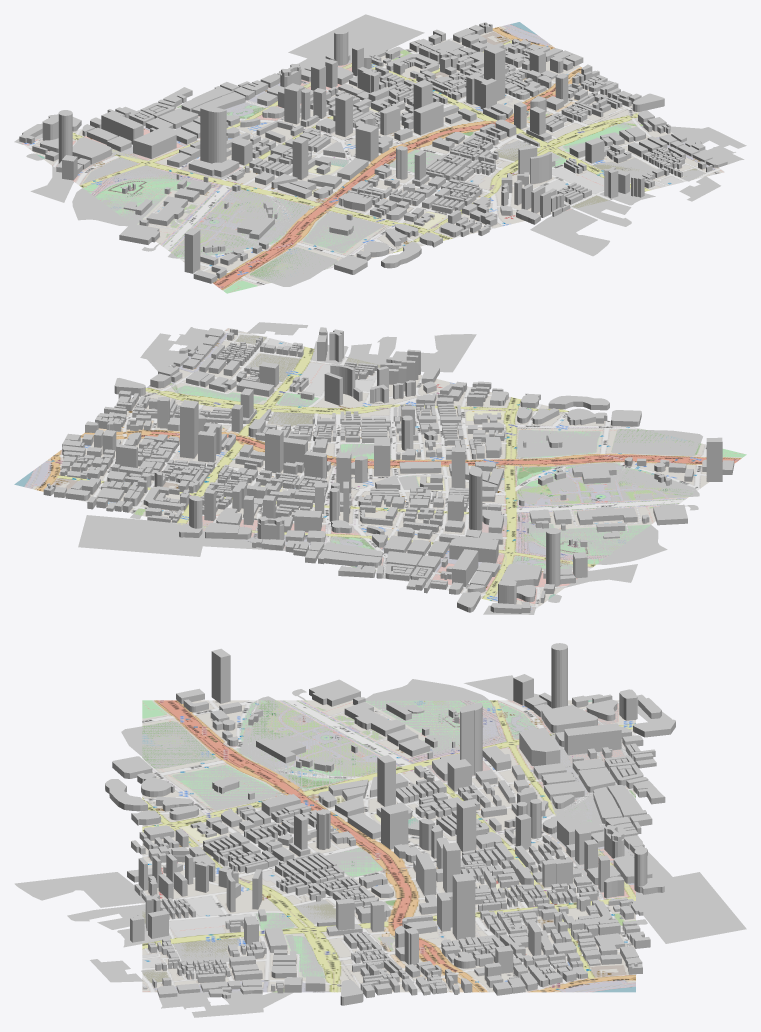
The picture shows the model from 3 angles, top to bottom: view 1: azimuth 30°, elevation 25°; view 2: azimuth 150°, elevation 25°; view 3: azimuth 270°, elevation 25°; orthographic projection. The views are drawn at different scales.
Parts seen in each view (by area): view 1: Areas:building, EXPORT_OSM_MAPNIK_WM, Areas:leisure, Areas:landuse; view 2: Areas:building, EXPORT_OSM_MAPNIK_WM, Areas:landuse, Areas:leisure; view 3: Areas:building, EXPORT_OSM_MAPNIK_WM, Areas:leisure, Areas:landuse.
Boxes of the visible parts, x1,y1,x2,y2 form: Areas:building: (19,22,727,283); EXPORT_OSM_MAPNIK_WM: (22,22,724,293); Areas:leisure: (26,46,746,286); Areas:landuse: (14,14,744,274); Areas:building: (43,327,734,613); EXPORT_OSM_MAPNIK_WM: (14,328,746,609); Areas:landuse: (78,322,698,614); Areas:leisure: (130,333,702,602); Areas:building: (105,643,675,1005); EXPORT_OSM_MAPNIK_WM: (142,700,635,992); Areas:leisure: (121,679,647,1017); Areas:landuse: (14,675,746,1010).
Size of the model in its own units: 2511 by 222 by 2270.
1 material, 1 textured.
